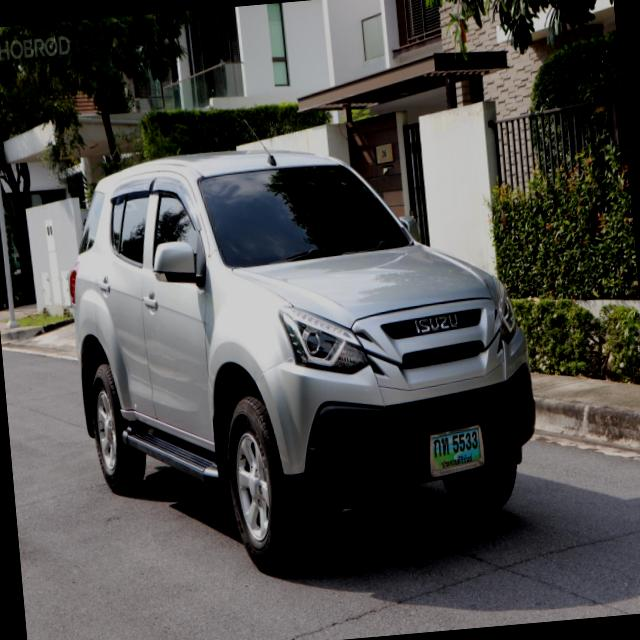license_plate: (424, 421, 489, 480)
